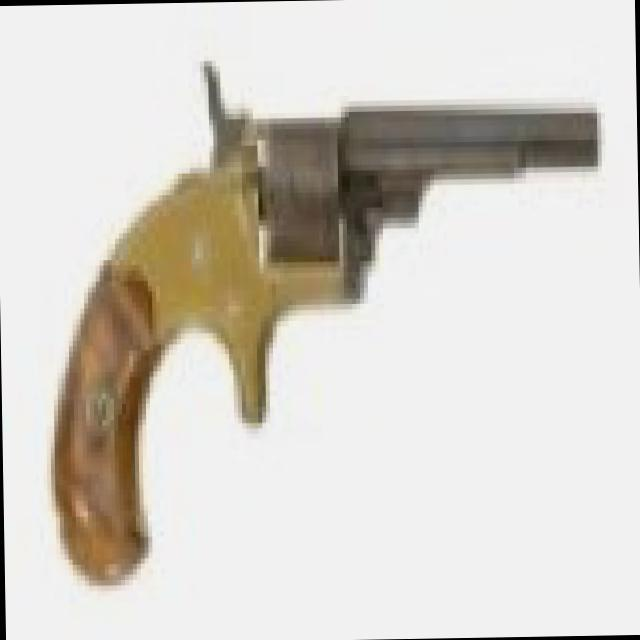handgun: (48, 49, 604, 580)
